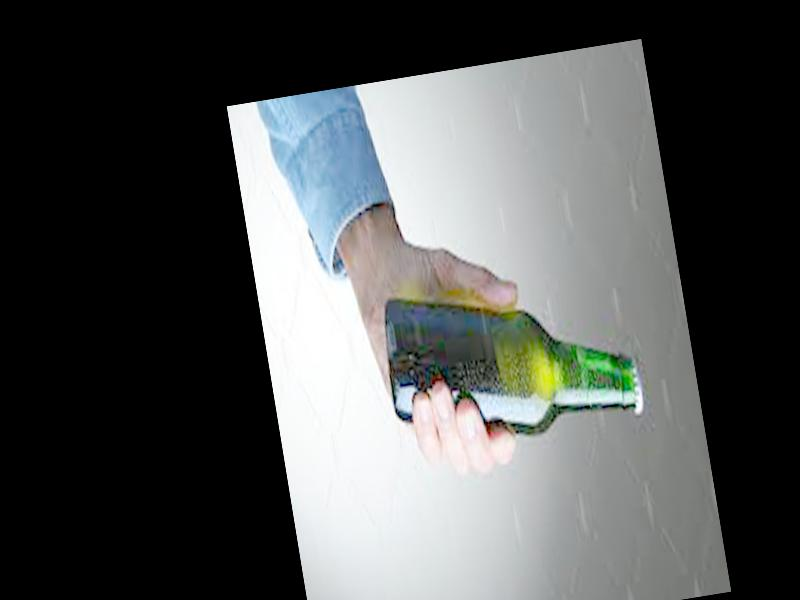Beer: (374, 258, 649, 455)
